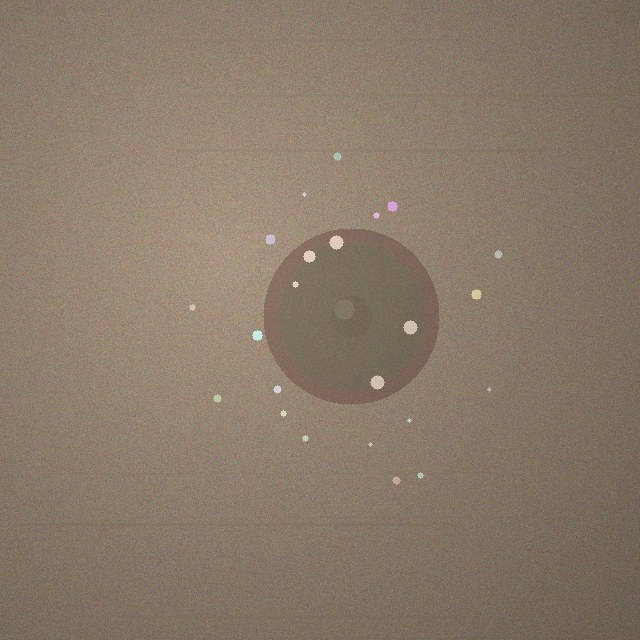overburn: (263, 228, 439, 404)
